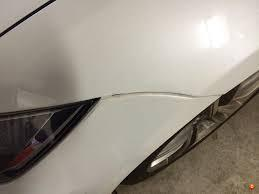scratch: (101, 86, 223, 105)
